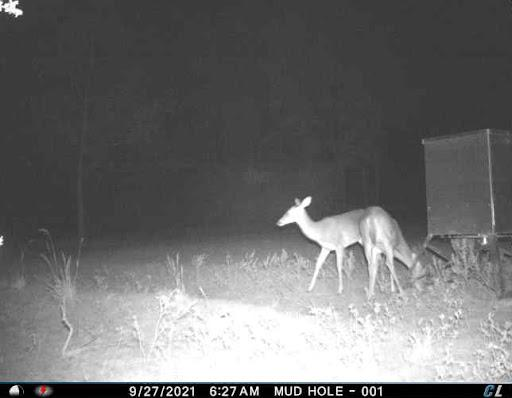Deer: (275, 196, 364, 296), (359, 203, 430, 302)
